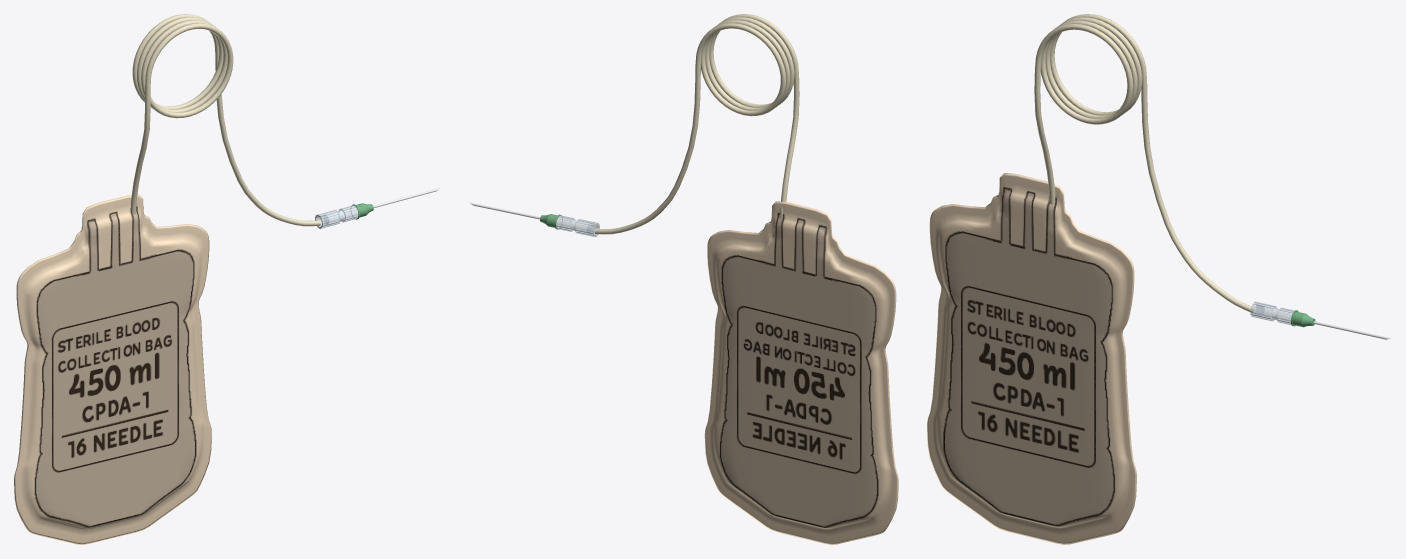
File: blood bag.glb
3 renders of one model, left to right at view 1: azimuth 30°, elevation 25°; view 2: azimuth 150°, elevation 25°; view 3: azimuth 330°, elevation 25°, orthographic. The views are drawn at different scales.
Visible parts, largest first — view 1: ObjectBlood bag_V02B, Spring001, Catheter001; view 2: ObjectBlood bag_V02B, Spring001, Catheter001; view 3: ObjectBlood bag_V02B, Spring001, Catheter001.
Part boxes in pixels (x1,y1,x2,y2): ObjectBlood bag_V02B: [14, 194, 211, 544]; Spring001: [131, 14, 320, 226]; Catheter001: [315, 187, 440, 228]; ObjectBlood bag_V02B: [704, 201, 898, 544]; Spring001: [594, 14, 799, 234]; Catheter001: [469, 202, 599, 237]; ObjectBlood bag_V02B: [927, 173, 1136, 544]; Spring001: [1034, 14, 1254, 313]; Catheter001: [1250, 302, 1391, 339].
Size of the model in its own units: 0.2522 by 0.2833 by 0.0232.
5 materials, 1 textured.
